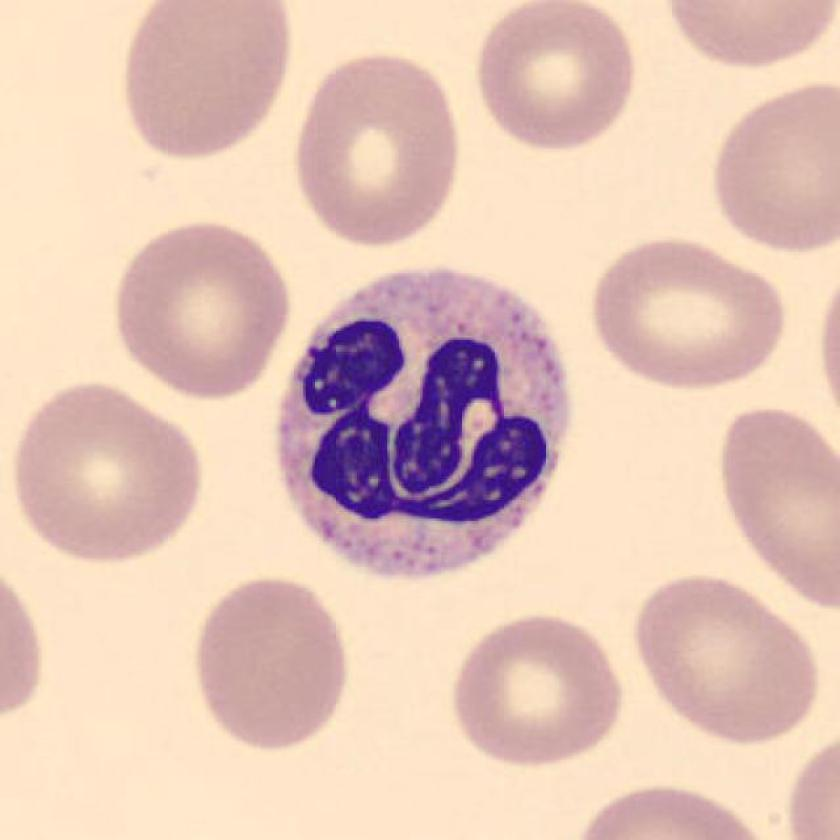neutrophil: (279, 270, 571, 575)
